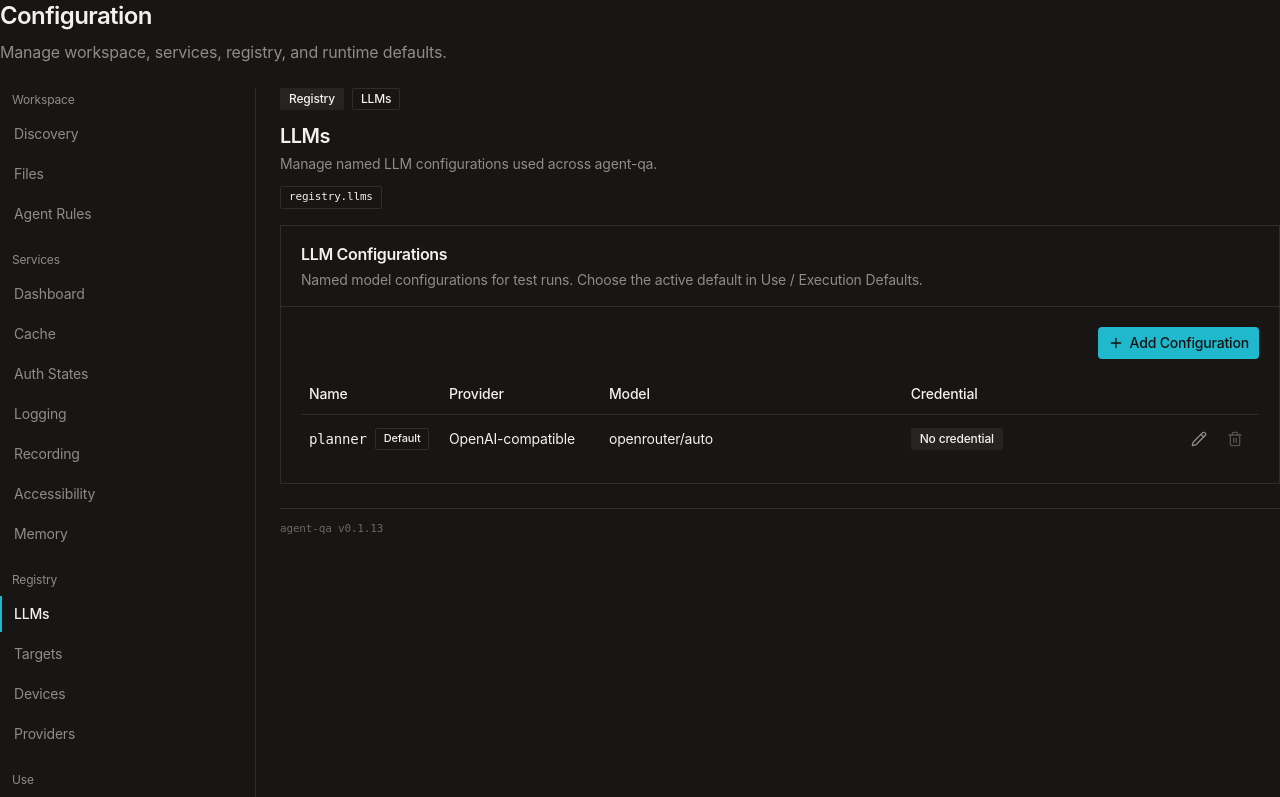
Test: ConfigPage schema-driven shell › renders the OpenAI-Compatible modal with free-form model and Base URL tooltip
This screenshot has width=1280, height=797.
Click the button titled "Edit configuration" at x=1199, y=439, box [1183,423,1215,455]
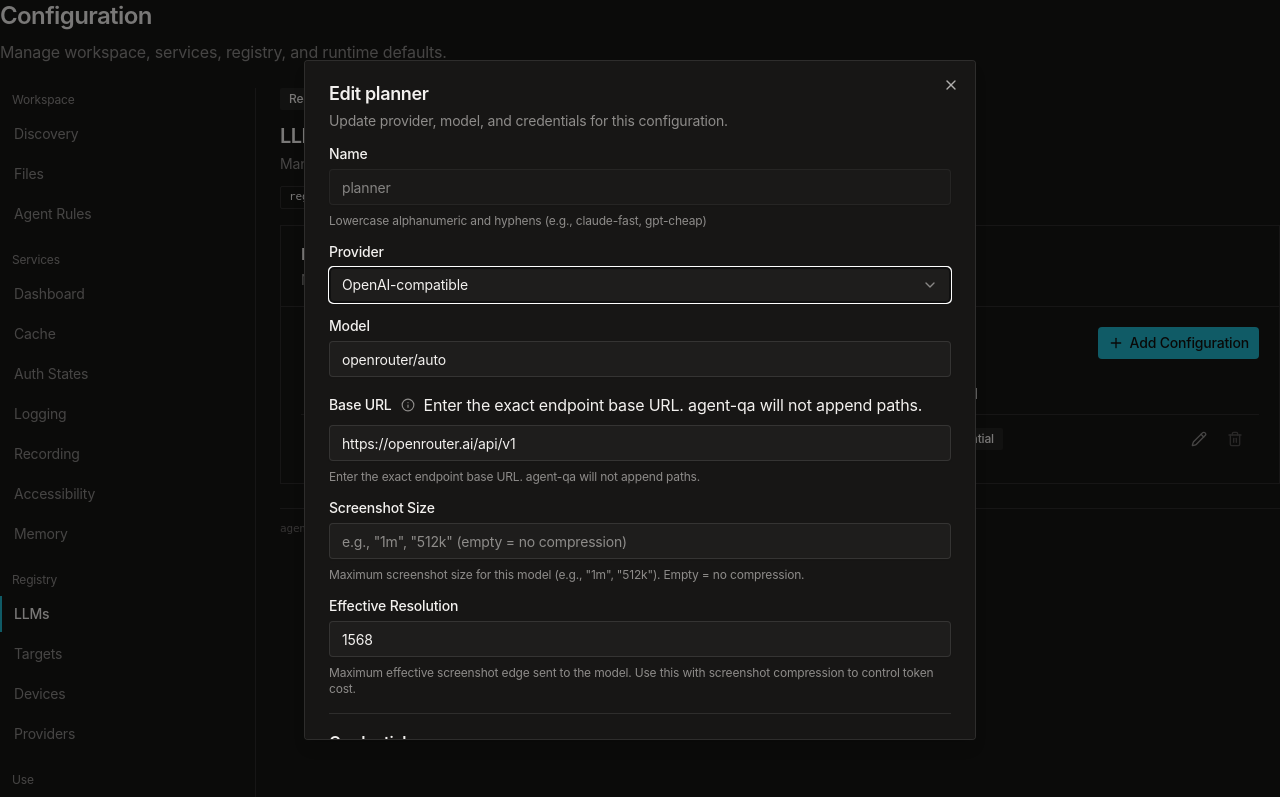
Check: the text "Base URL" is shown, box [329,398,392,412]
Check: the text "Enter the exact endpoint base URL. agent-qa will not append paths." is shown, box [424,395,922,415]
Check: the button named "Compatible endpoint help" is shown, box [398,395,418,415]
